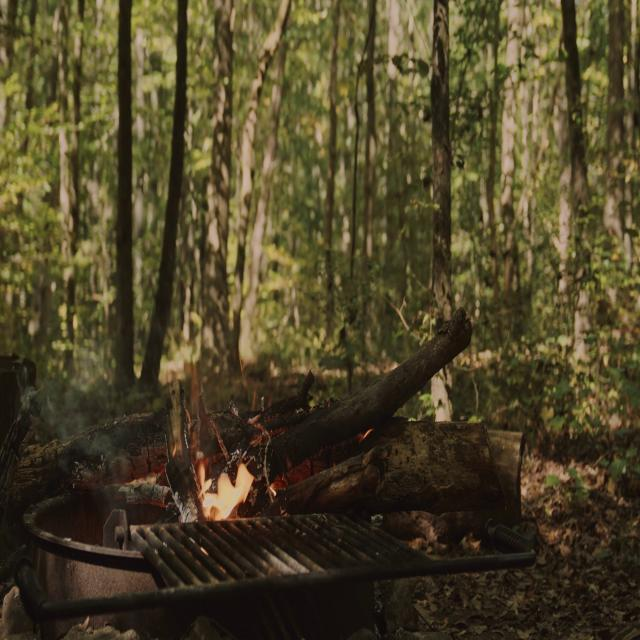Fire: (176, 446, 251, 526)
